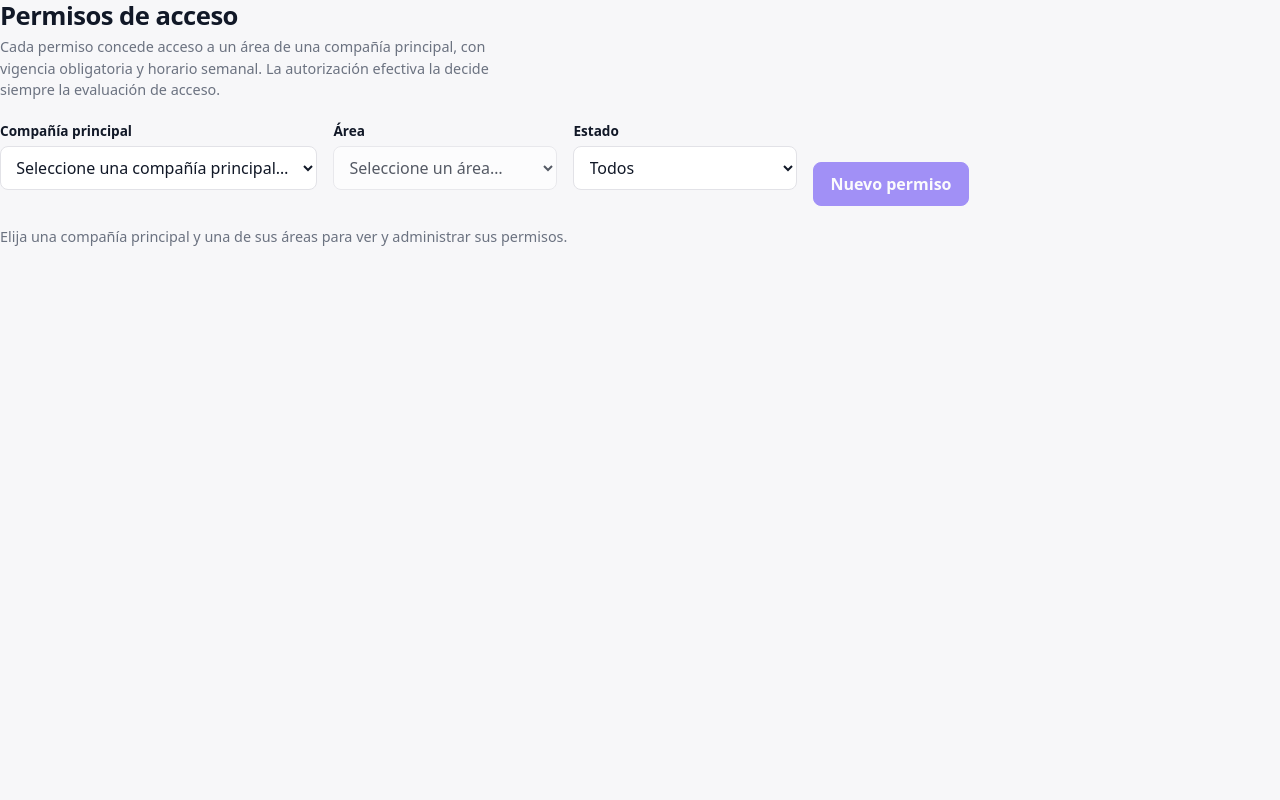
it: PermisosPage › no envía un permiso sin fecha de fin de vigencia
Select "Minera Norte" in the dropdown labelled "Compañía principal" at (159, 168), box [0,146,317,190]
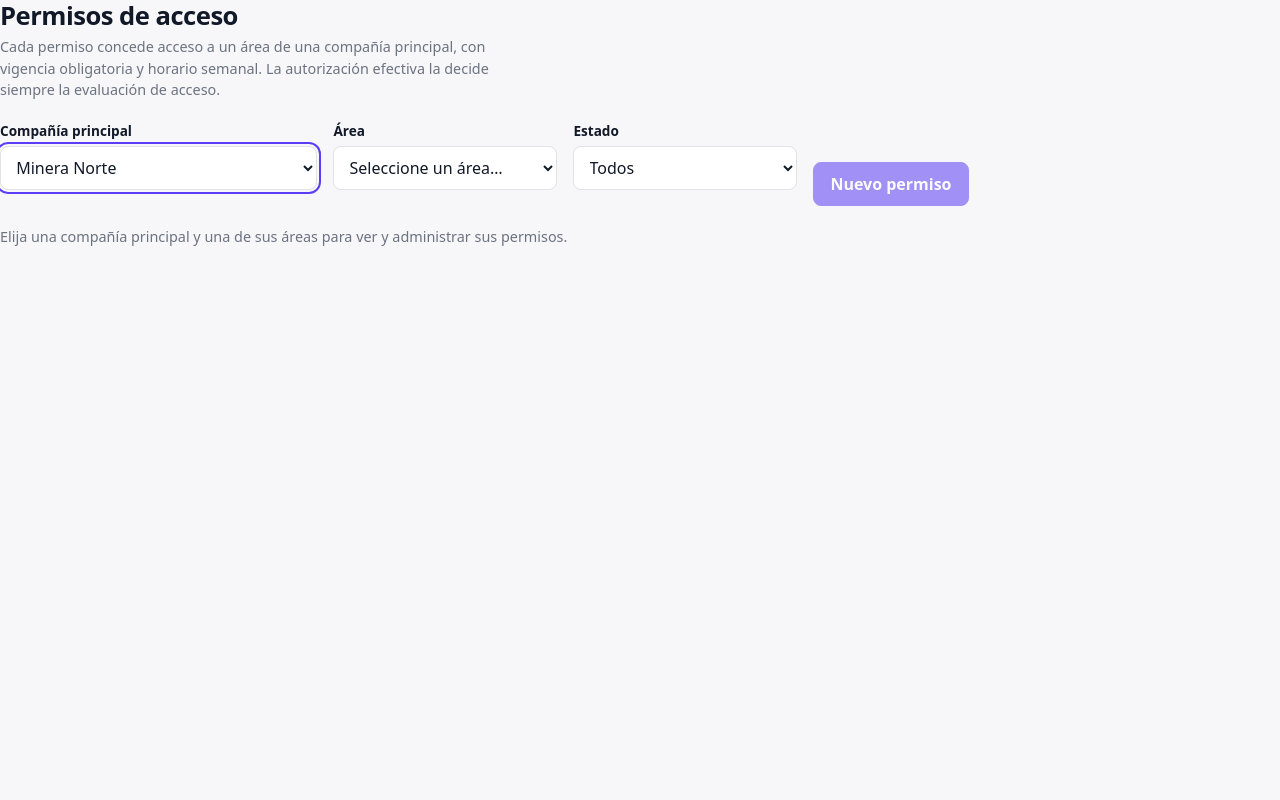
Select "Planta" in the dropdown labelled "Área" at (445, 168), box [333,146,557,190]
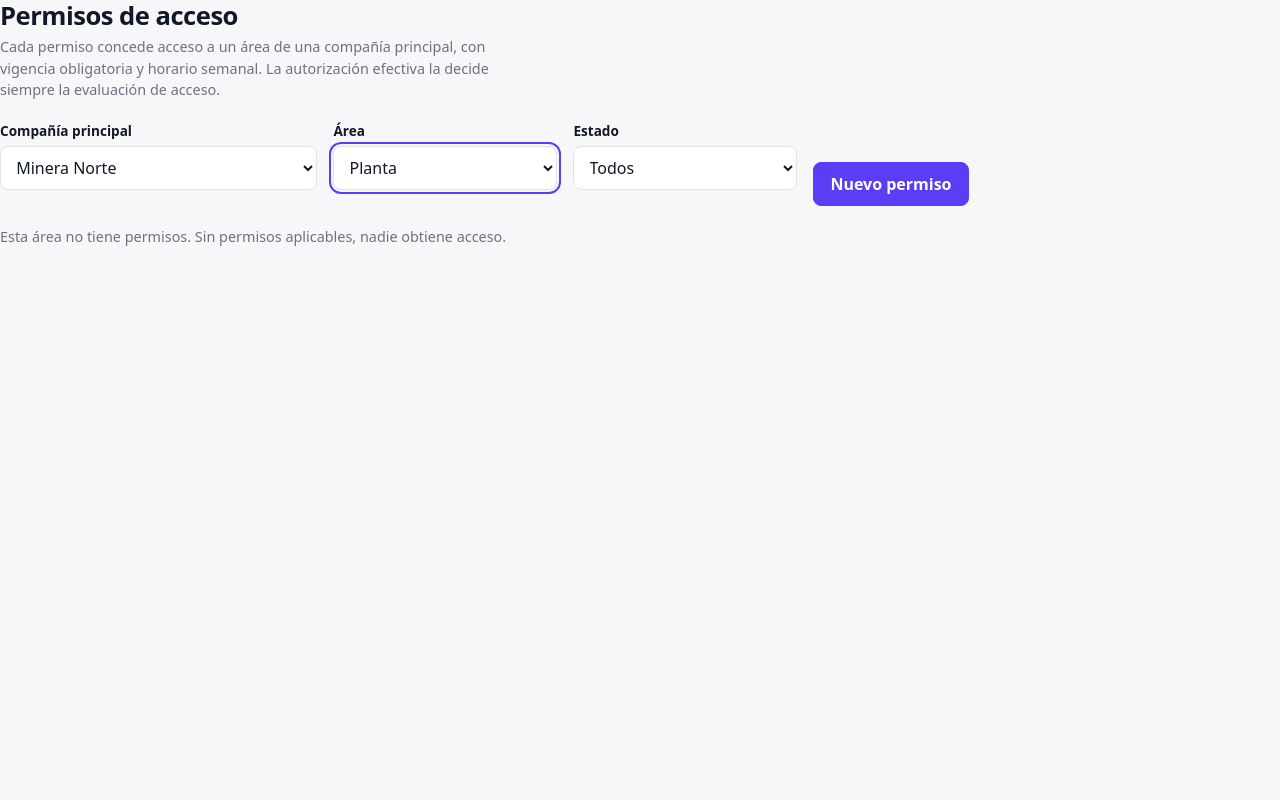
Click the button "Nuevo permiso" at (891, 184), box [813,162,968,206]
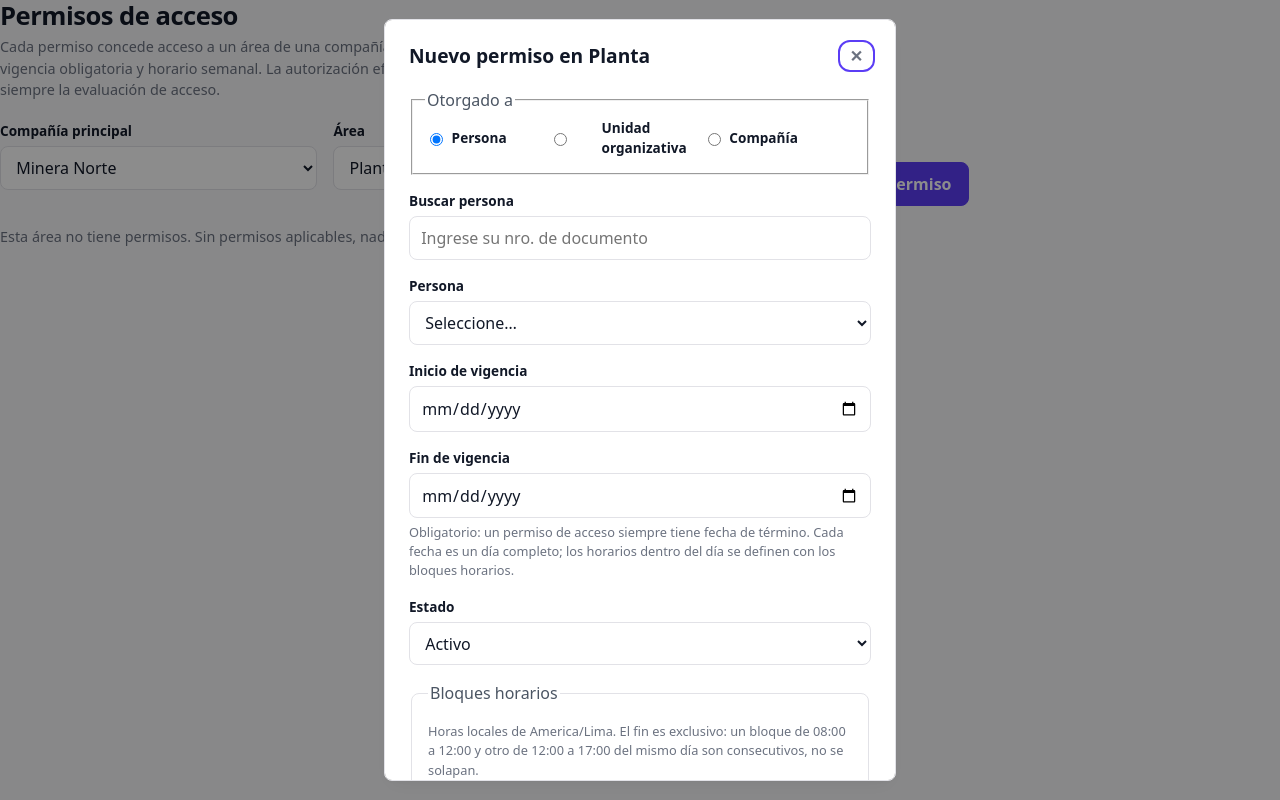
Type "2026-09-01" into the date field labelled "Inicio de vigencia" at (640, 409), box [409,386,871,432]
(page scrolled)
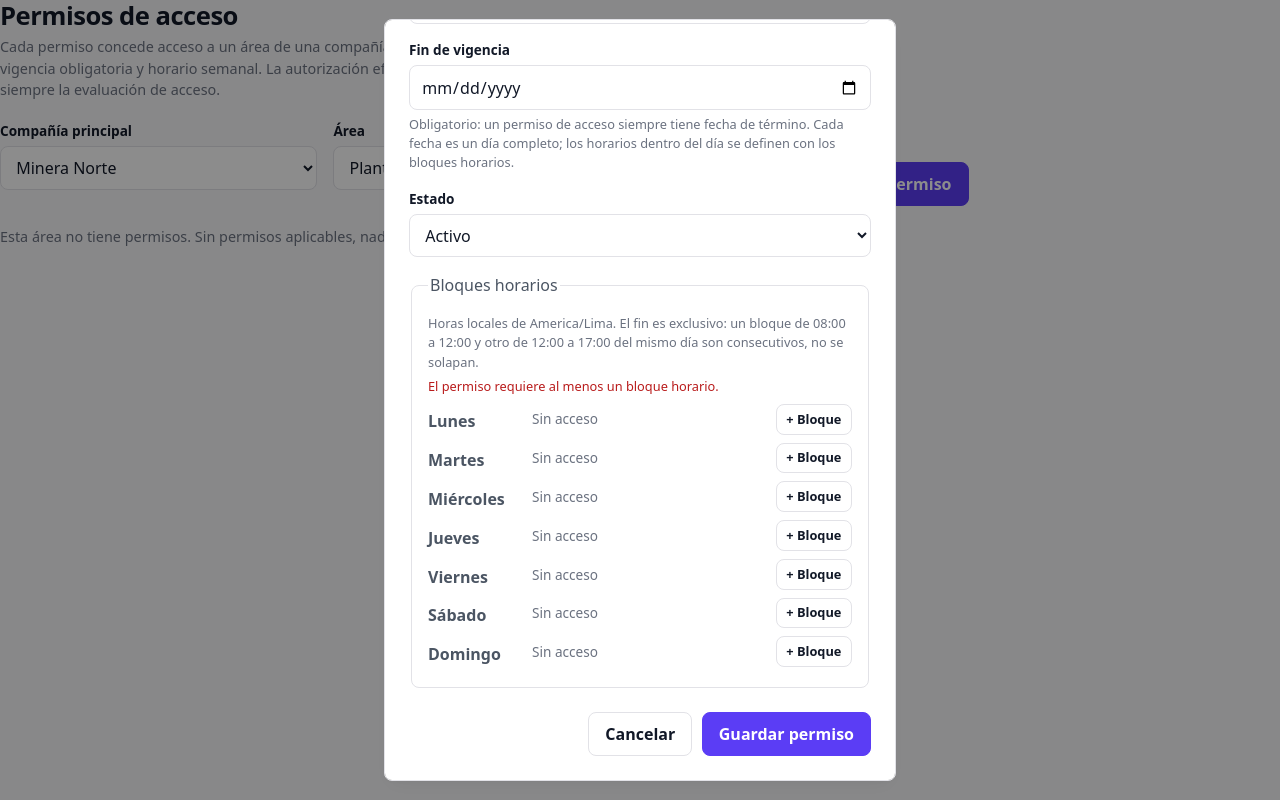
Click the button with aria-label "Agregar bloque el lunes" at (814, 419), box [776,404,852,435]
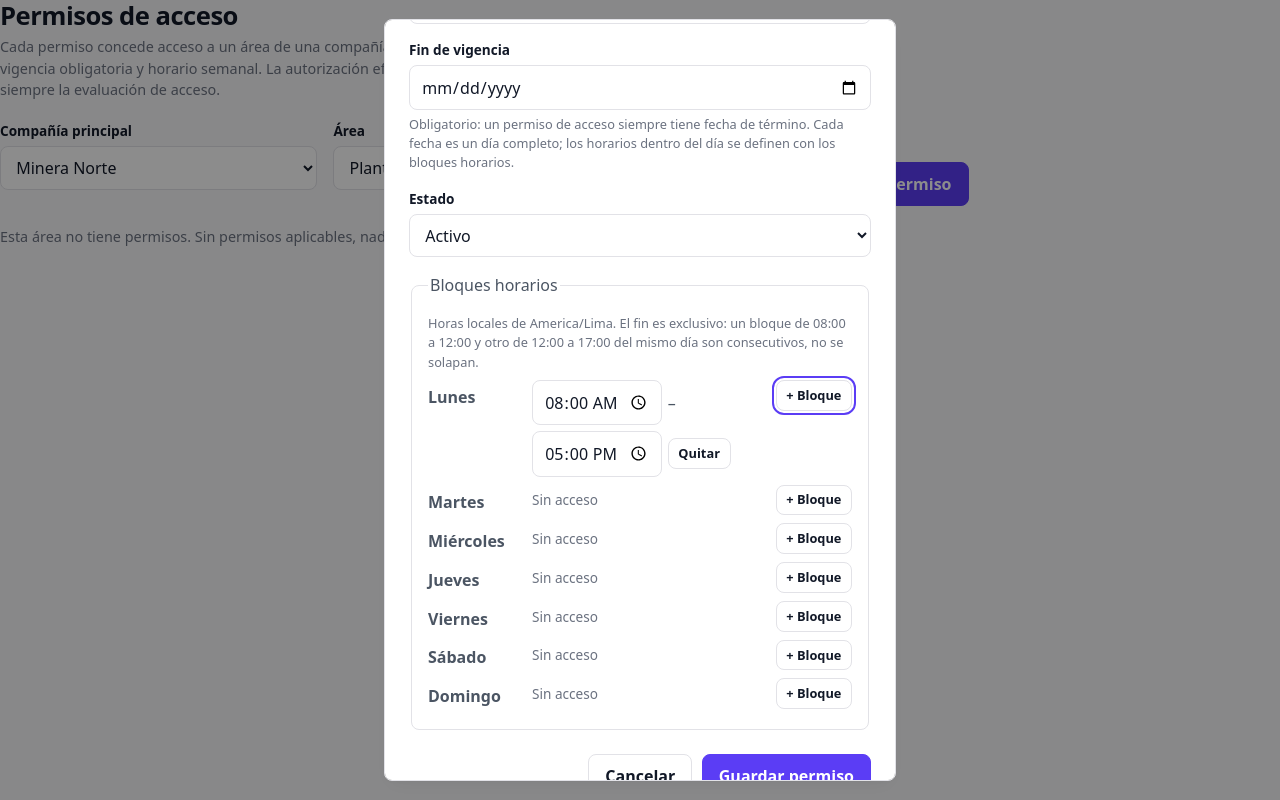
Click the button "Guardar permiso" at (786, 776), box [702,754,871,798]
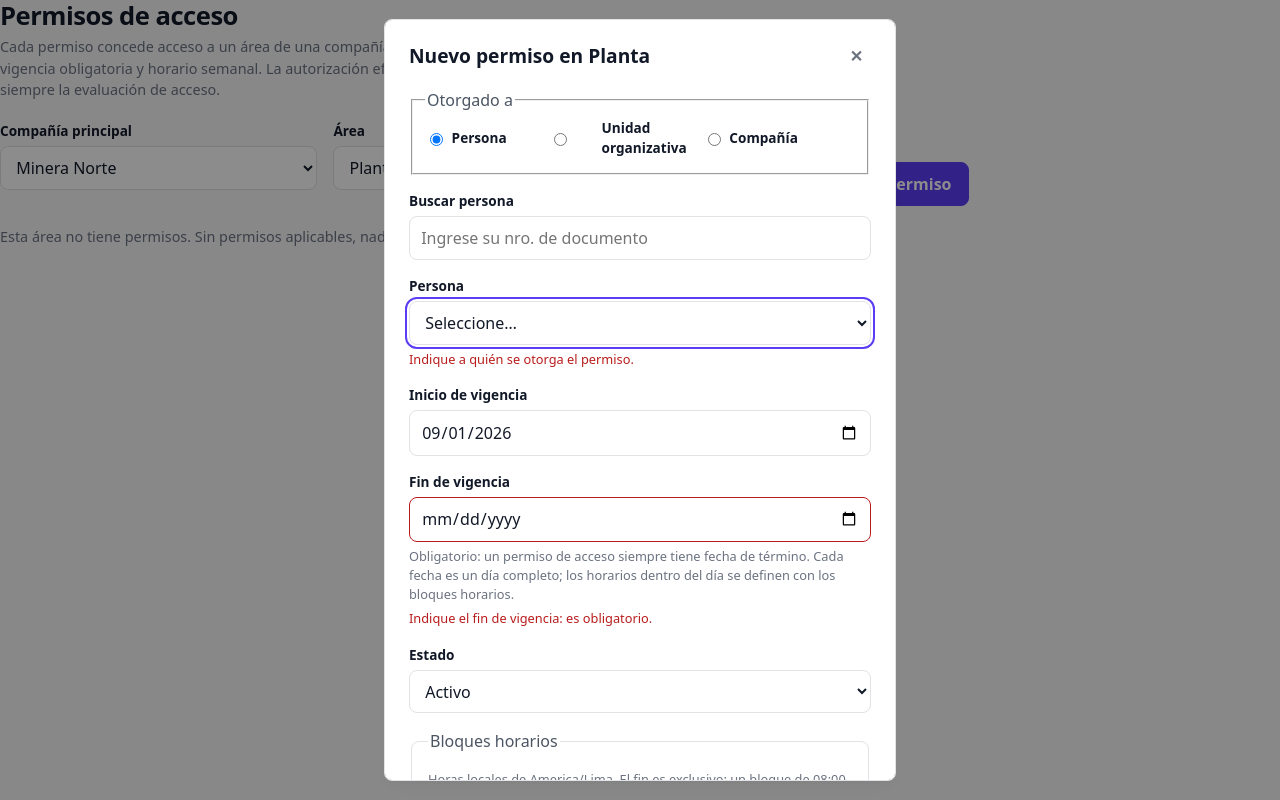
Expected: the text "Indique el fin de vigencia: es obligatorio." is shown, [409,609,652,627]
